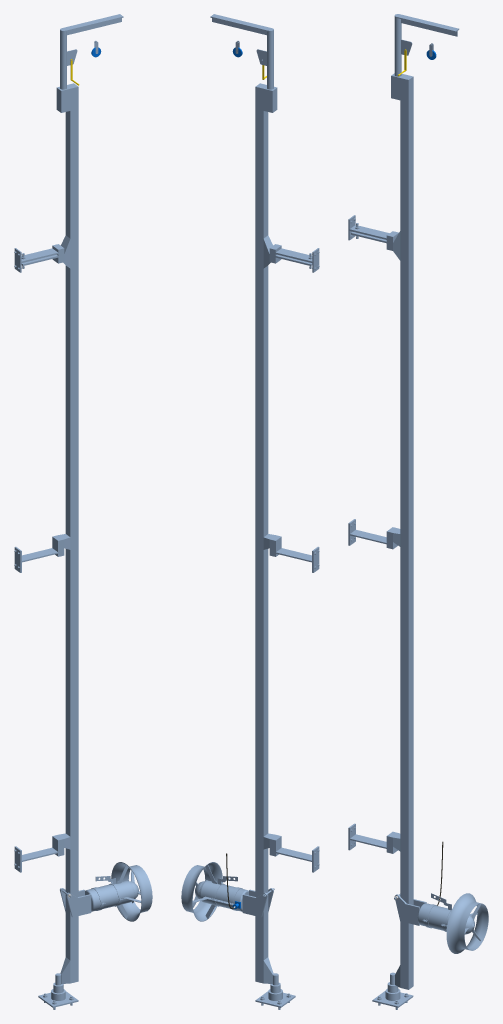
Rendered from submersible-mixer.gltf.
The picture shows the model from 3 angles, left to right: view 1: azimuth 30°, elevation 25°; view 2: azimuth 150°, elevation 25°; view 3: azimuth 330°, elevation 25°; orthographic projection.
Parts seen in each view (by area): view 1: 拉伸 [212452], 旋转 [213146], 旋转 [213157], 拉伸 [212568], 拉伸 [212583], 拉伸 [213517], 拉伸 [212483], 拉伸 [212598], 拉伸 [212475]; view 2: 拉伸 [212452], 旋转 [213146], 旋转 [213157], 拉伸 [212568], 拉伸 [212583], 拉伸 [213528], 拉伸 [212483], 拉伸 [212598], 拉伸 [212475]; view 3: 拉伸 [212452], 旋转 [213146], 拉伸 [212583], 拉伸 [212568], 拉伸 [213517], 拉伸 [212483], 旋转 [213157], 拉伸 [212598].
Boxes of the visible parts, bbox=[...] form: 拉伸 [212452]: bbox=[65, 83, 78, 983]; 旋转 [213146]: bbox=[111, 862, 152, 921]; 旋转 [213157]: bbox=[90, 881, 132, 910]; 拉伸 [212568]: bbox=[14, 845, 64, 872]; 拉伸 [212583]: bbox=[14, 546, 64, 572]; 拉伸 [213517]: bbox=[66, 892, 91, 917]; 拉伸 [212483]: bbox=[60, 28, 66, 89]; 拉伸 [212598]: bbox=[14, 248, 58, 272]; 拉伸 [212475]: bbox=[56, 86, 70, 112]; 拉伸 [212452]: bbox=[255, 83, 268, 983]; 旋转 [213146]: bbox=[181, 862, 222, 921]; 旋转 [213157]: bbox=[201, 881, 243, 910]; 拉伸 [212568]: bbox=[269, 845, 319, 872]; 拉伸 [212583]: bbox=[269, 546, 319, 572]; 拉伸 [213528]: bbox=[242, 892, 267, 917]; 拉伸 [212483]: bbox=[267, 28, 273, 89]; 拉伸 [212598]: bbox=[275, 248, 319, 272]; 拉伸 [212475]: bbox=[263, 86, 277, 112]; 拉伸 [212452]: bbox=[400, 74, 413, 989]; 旋转 [213146]: bbox=[446, 893, 488, 953]; 拉伸 [212583]: bbox=[348, 519, 397, 549]; 拉伸 [212568]: bbox=[348, 823, 397, 853]; 拉伸 [213517]: bbox=[394, 894, 419, 925]; 拉伸 [212483]: bbox=[394, 14, 401, 76]; 旋转 [213157]: bbox=[422, 904, 450, 930]; 拉伸 [212598]: bbox=[348, 215, 389, 240].
Size of the model in its own units: 1.22 by 9.1 by 0.5509.
